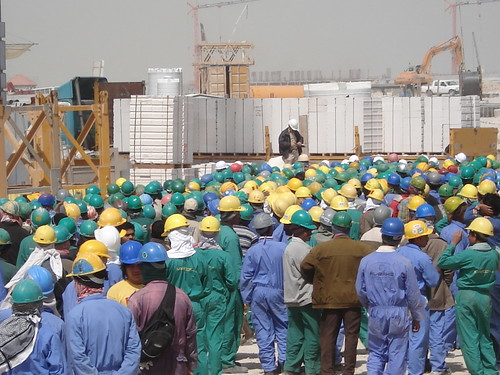person hardhat: (303, 210, 368, 375), (359, 211, 418, 374), (61, 255, 138, 375), (137, 244, 205, 372), (445, 217, 500, 375), (157, 213, 206, 375), (250, 212, 297, 366), (412, 199, 451, 372), (1, 281, 70, 375), (401, 218, 442, 375), (293, 212, 328, 374), (199, 209, 233, 375), (218, 194, 249, 360), (464, 192, 500, 273), (24, 227, 69, 291), (443, 197, 475, 284), (26, 267, 63, 325), (116, 242, 145, 302), (76, 238, 112, 282), (1, 220, 23, 289), (1, 196, 22, 256), (99, 207, 126, 251), (402, 175, 431, 212), (282, 118, 304, 166), (361, 186, 388, 218), (76, 215, 100, 246), (269, 189, 290, 223), (244, 191, 268, 218), (341, 177, 361, 209), (30, 209, 58, 231), (331, 192, 350, 223), (435, 185, 462, 206), (441, 174, 469, 194), (320, 188, 343, 212), (25, 195, 45, 220), (63, 204, 85, 225), (384, 174, 403, 197), (297, 184, 314, 209), (455, 165, 475, 186), (39, 194, 55, 219), (107, 176, 122, 202), (146, 183, 161, 207), (80, 183, 100, 199), (450, 154, 471, 168), (167, 194, 186, 209), (90, 196, 108, 211), (126, 196, 140, 214), (144, 205, 162, 219), (169, 181, 188, 194), (218, 158, 231, 177), (295, 165, 308, 184), (297, 151, 312, 166), (150, 179, 164, 195), (347, 156, 361, 172), (127, 183, 140, 200), (243, 182, 261, 194), (189, 182, 200, 195), (386, 153, 400, 163), (327, 167, 339, 177), (205, 176, 215, 184)
